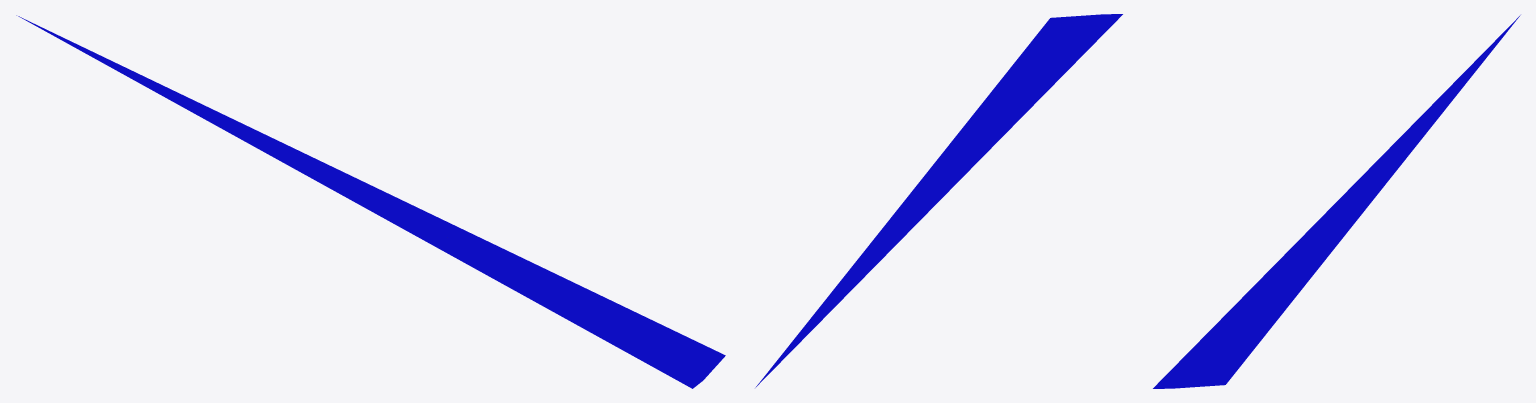
3 views of the same model, side by side, from view 1: azimuth 30°, elevation 25°; view 2: azimuth 150°, elevation 25°; view 3: azimuth 330°, elevation 25° (orthographic). The views are drawn at different scales.
Bounding box in the file's own units: 1692 × 0.001 × 8821.
